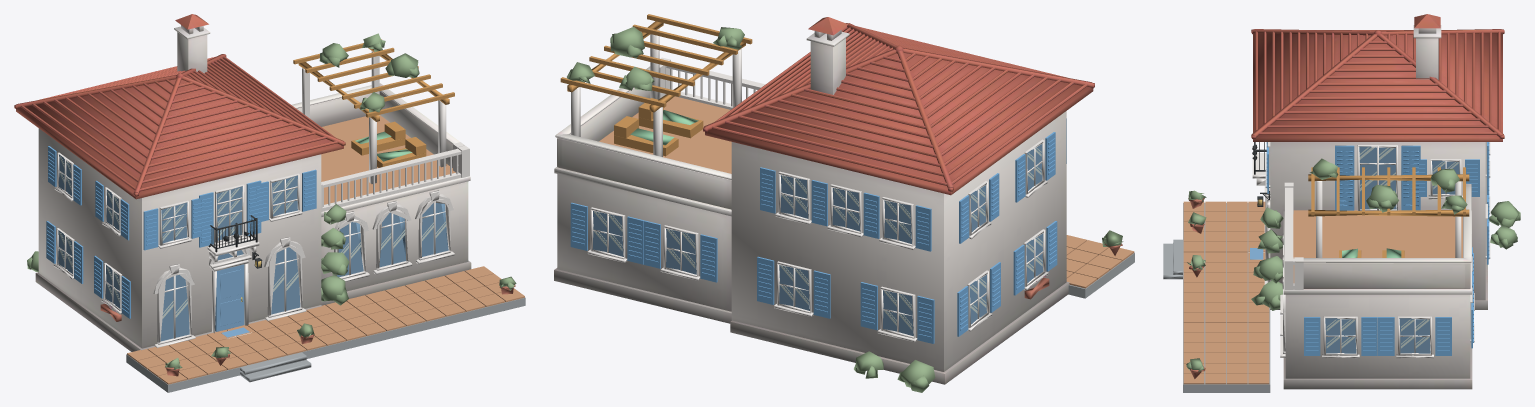
File: mansion_villa.glb
The picture shows the model from 3 angles, left to right: view 1: azimuth 30°, elevation 25°; view 2: azimuth 150°, elevation 25°; view 3: azimuth 270°, elevation 25°; orthographic projection. The views are drawn at different scales.
Parts seen in each view (by area): view 1: mediterranean-villa_details, mediterranean-villa_body; view 2: mediterranean-villa_body, mediterranean-villa_details; view 3: mediterranean-villa_body, mediterranean-villa_details.
Boxes of the visible parts, <box> form: mediterranean-villa_details: <box>27,33,525,392</box>; mediterranean-villa_body: <box>14,14,471,351</box>; mediterranean-villa_body: <box>554,17,1094,384</box>; mediterranean-villa_details: <box>560,14,1134,392</box>; mediterranean-villa_body: <box>1251,14,1504,389</box>; mediterranean-villa_details: <box>1163,142,1520,392</box>.
Size of the model in its own units: 13.9 by 9.6 by 11.56.
2 materials, 2 textured.
